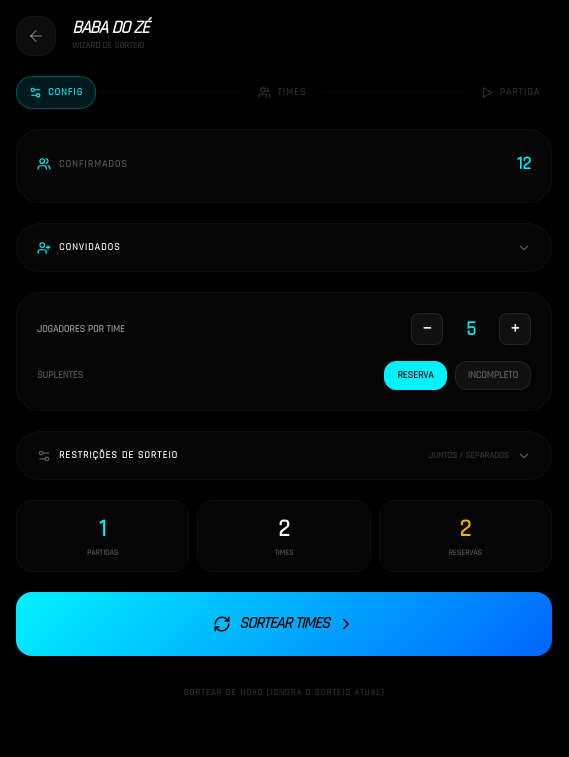
Test: DrawPage — StepConfig › botão − diminui playersPerTeam
This screenshot has width=569, height=757.
Expected: the text "5" is shown, [466,316,476,342]
What coordinates should you click on to do the following:
click the button "−"
I would click on:
 (427, 329)
Its box is [411,313,443,345].
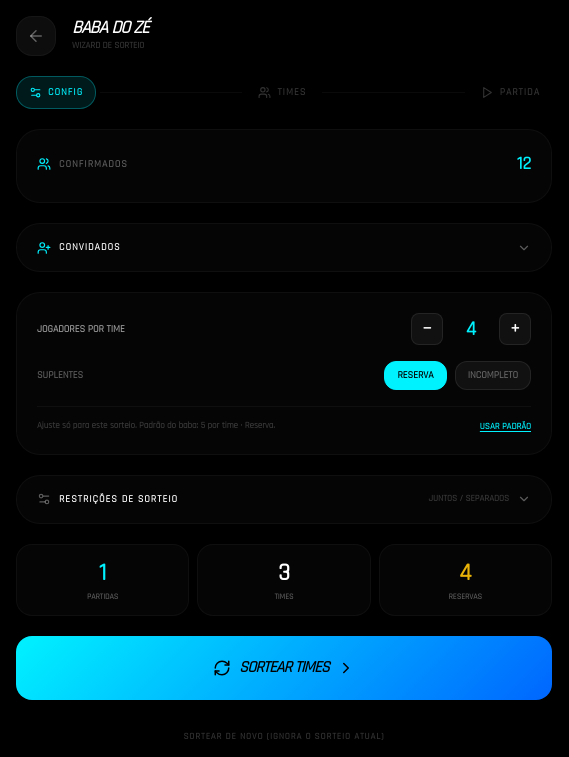
Now the text "4" in the row of "Jogadores por time" is shown, box [466,316,476,342]
